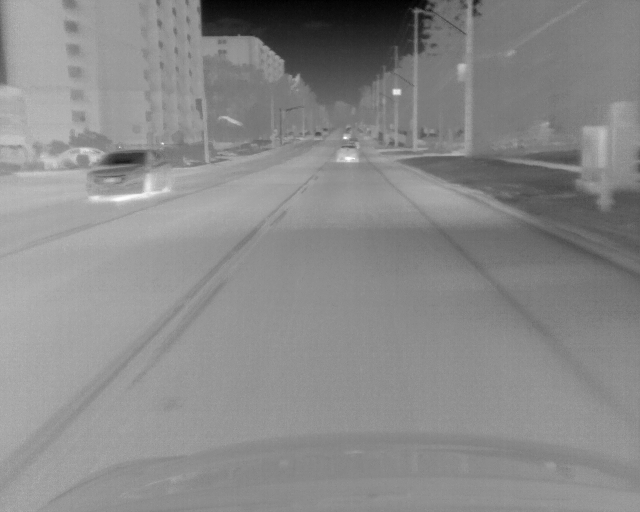car: (86, 147, 170, 200), (58, 145, 105, 166), (336, 144, 357, 163), (341, 132, 351, 139)
